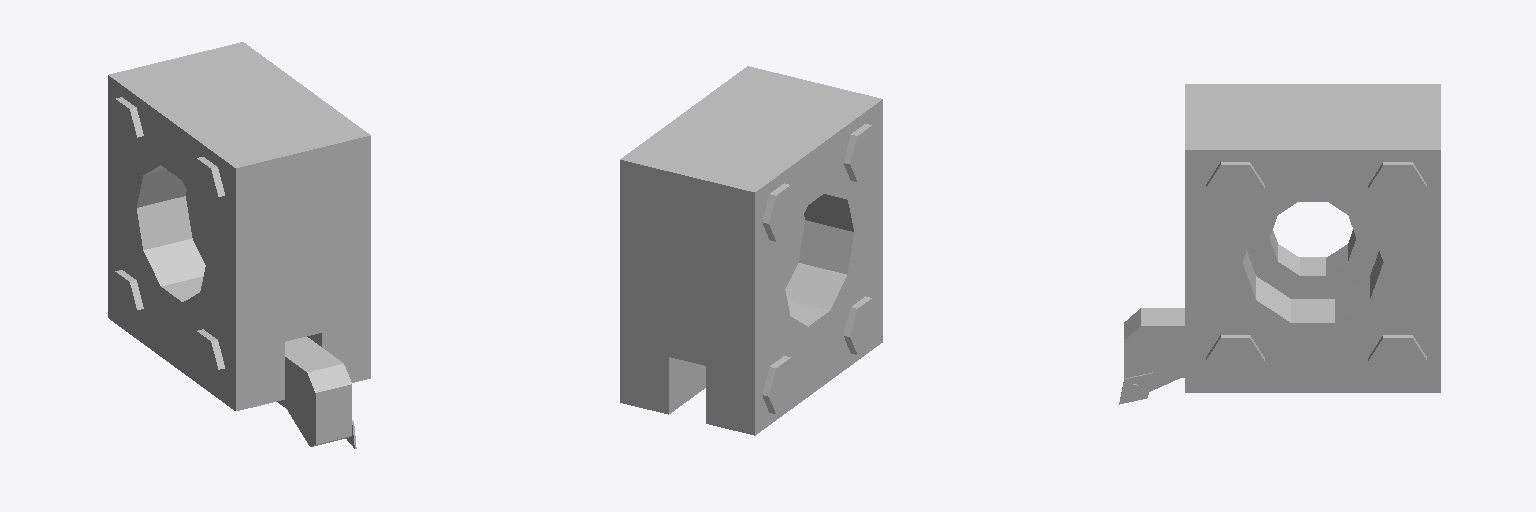
The model's file is knife_gear.obj.
3 renders of one model, left to right at view 1: azimuth 30°, elevation 25°; view 2: azimuth 150°, elevation 25°; view 3: azimuth 270°, elevation 25°, orthographic.
Parts seen in each view (by area): view 1: Object.2, Object.3, Object.1, Object.14, Object.11, Object.8, Object.9, Object.10, Object.15; view 2: Object.2, Object.3, Object.1, Object.9, Object.8, Object.11, Object.10; view 3: Object.3, Object.2, Object.1, Object.14, Object.6, Object.7, Object.5, Object.4, Object.12.
Boxes of the visible parts, x1=… form: Object.2: x1=108, y1=63, x2=284, y2=410; Object.3: x1=195, y1=42, x2=370, y2=382; Object.1: x1=158, y1=54, x2=321, y2=341; Object.14: x1=287, y1=349, x2=351, y2=446; Object.11: x1=189, y1=157, x2=224, y2=214; Object.8: x1=189, y1=329, x2=224, y2=387; Object.9: x1=108, y1=270, x2=143, y2=327; Object.10: x1=108, y1=97, x2=143, y2=154; Object.15: x1=277, y1=337, x2=323, y2=408; Object.2: x1=706, y1=87, x2=882, y2=435; Object.3: x1=620, y1=66, x2=795, y2=414; Object.1: x1=669, y1=78, x2=832, y2=365; Object.9: x1=762, y1=356, x2=797, y2=413; Object.8: x1=843, y1=296, x2=879, y2=354; Object.11: x1=843, y1=124, x2=878, y2=181; Object.10: x1=762, y1=183, x2=797, y2=241; Object.3: x1=1185, y1=126, x2=1440, y2=392; Object.2: x1=1185, y1=84, x2=1440, y2=257; Object.1: x1=1185, y1=108, x2=1440, y2=275; Object.14: x1=1124, y1=308, x2=1180, y2=391; Object.6: x1=1368, y1=162, x2=1426, y2=211; Object.7: x1=1206, y1=162, x2=1264, y2=211; Object.5: x1=1368, y1=335, x2=1426, y2=383; Object.4: x1=1206, y1=335, x2=1264, y2=383; Object.12: x1=1119, y1=372, x2=1152, y2=404.
Bounding box in the file's own units: 12.11 × 21.55 × 22.65.